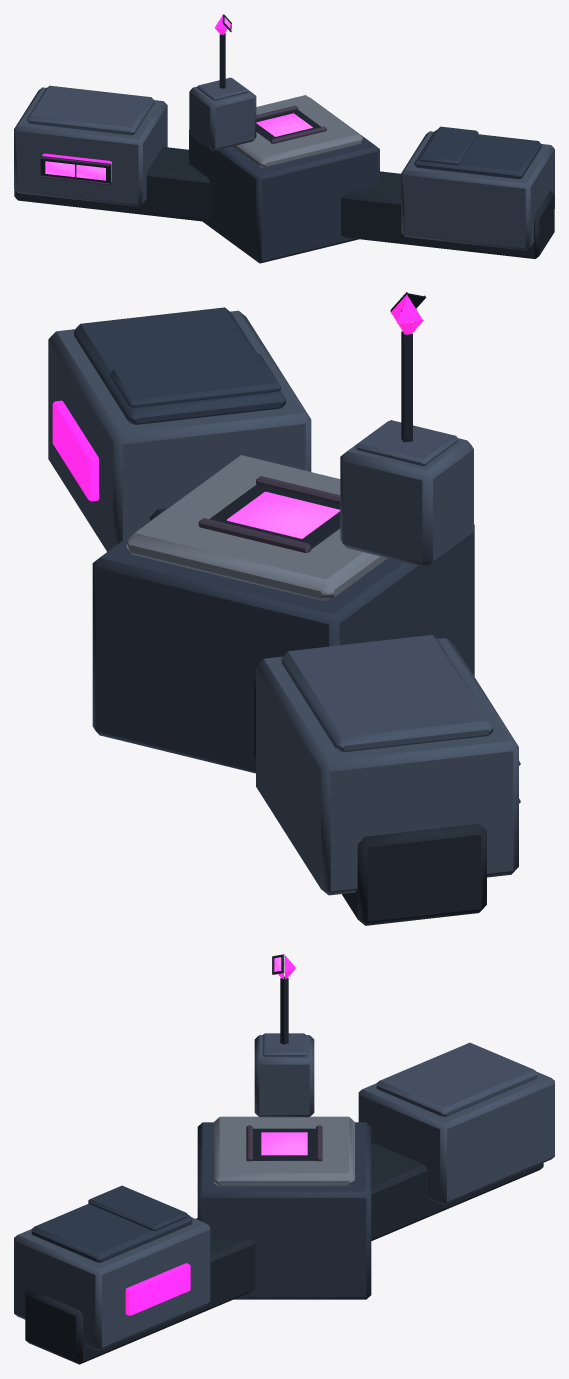
Rendered from 01_aussenposten.glb.
The picture shows the model from 3 angles, top to bottom: view 1: azimuth 30°, elevation 25°; view 2: azimuth 150°, elevation 25°; view 3: azimuth 270°, elevation 25°; orthographic projection. The views are drawn at different scales.
Parts seen in each view (by area): view 1: Hull, energy_1; view 2: Hull, energy_1; view 3: Hull, energy_1.
Part boxes in pixels (x1,y1,x2,y2): Hull: (14,14,554,263); energy_1: (256,105,326,143); Hull: (48,292,520,925); energy_1: (198,476,340,552); Hull: (14,954,554,1364); energy_1: (246,1125,322,1161).
Size of the model in its own units: 9.99 by 5.59 by 9.99.
